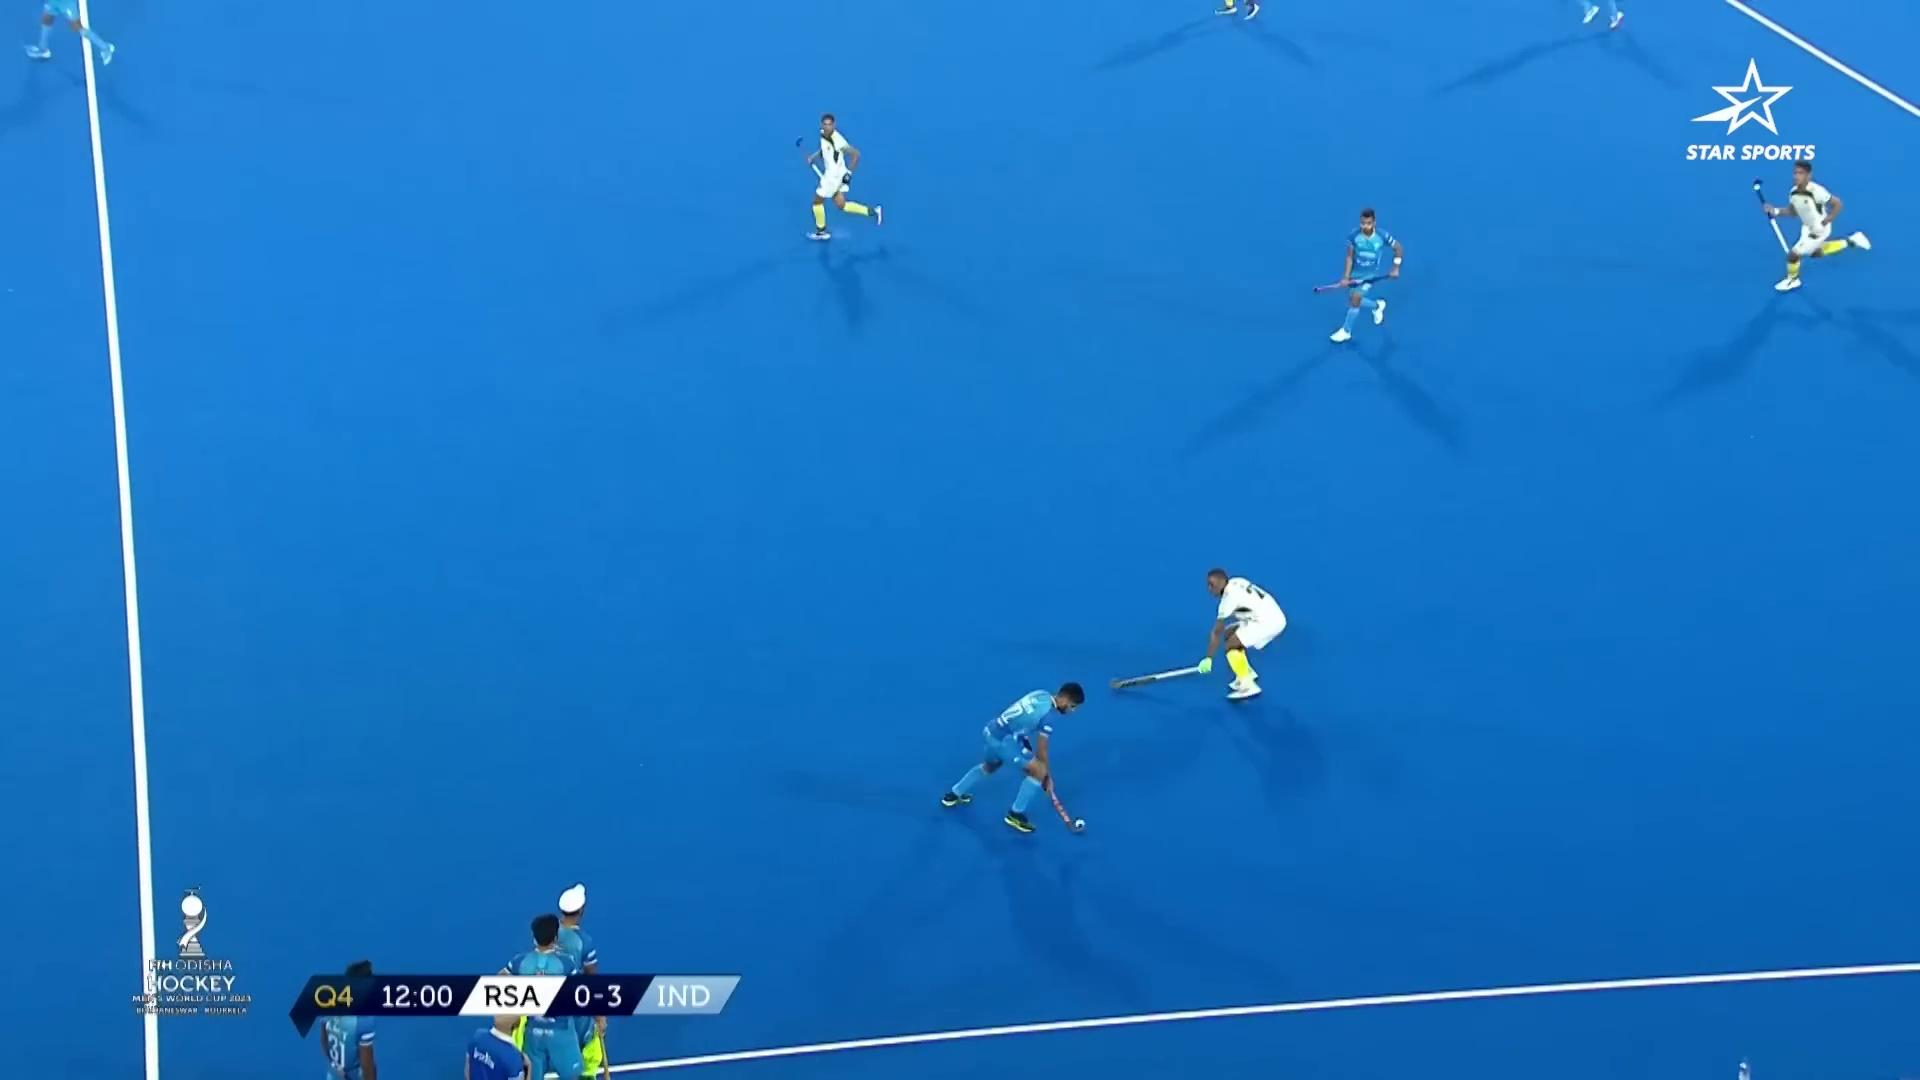ball: (1060, 802, 1108, 844)
